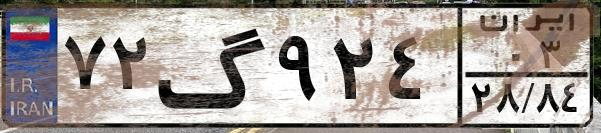0: (508, 27, 537, 80)
2: (330, 28, 385, 110), (110, 28, 156, 98), (470, 70, 495, 125)
3: (537, 27, 568, 80)
4: (385, 28, 445, 110), (560, 70, 590, 125)
7: (57, 26, 110, 100)
8: (495, 70, 520, 125), (535, 70, 560, 125)
9: (270, 28, 330, 110)
گ: (156, 12, 270, 120)
